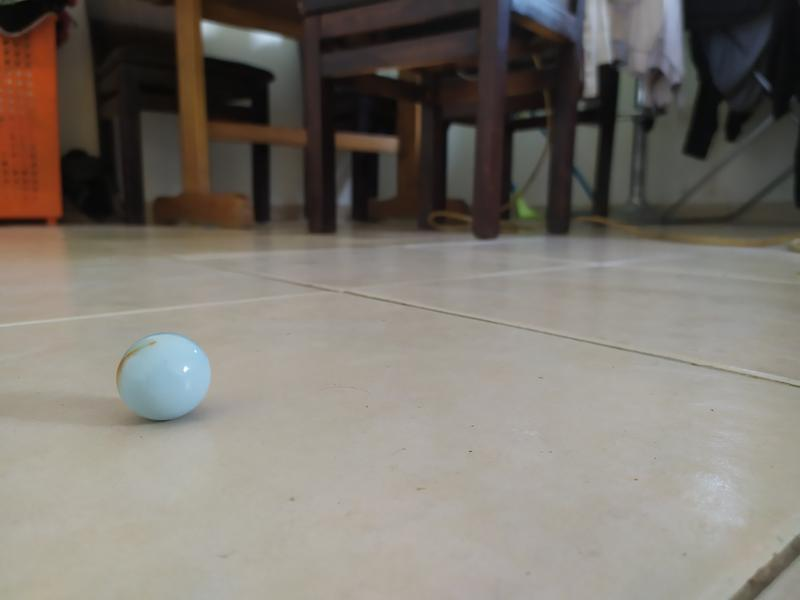Warning: (113, 328, 214, 424)
